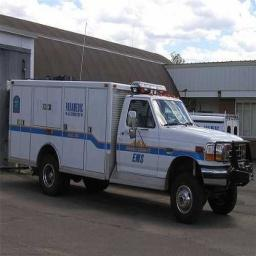ambulance: (8, 80, 252, 222)
